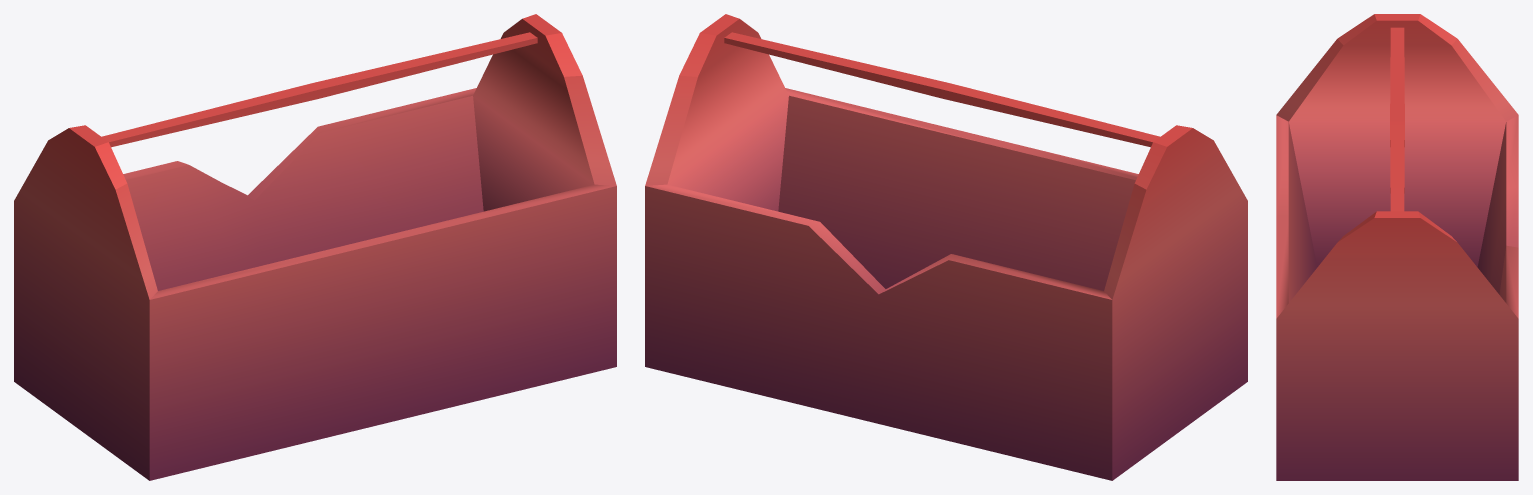
File: PlantPot_Box.fbx
3 views of the same model, side by side, from view 1: azimuth 30°, elevation 25°; view 2: azimuth 150°, elevation 25°; view 3: azimuth 270°, elevation 25° (orthographic). The views are drawn at different scales.
Visible parts, largest first — view 1: PlantPot_Box; view 2: PlantPot_Box; view 3: PlantPot_Box.
Boxes of the visible parts, left/top/right/bottom form: PlantPot_Box: left=14, top=14, right=616, bottom=480; PlantPot_Box: left=645, top=14, right=1247, bottom=480; PlantPot_Box: left=1276, top=14, right=1518, bottom=480.
Bounding box in the file's own units: 59.91 × 36.01 × 30.1.
